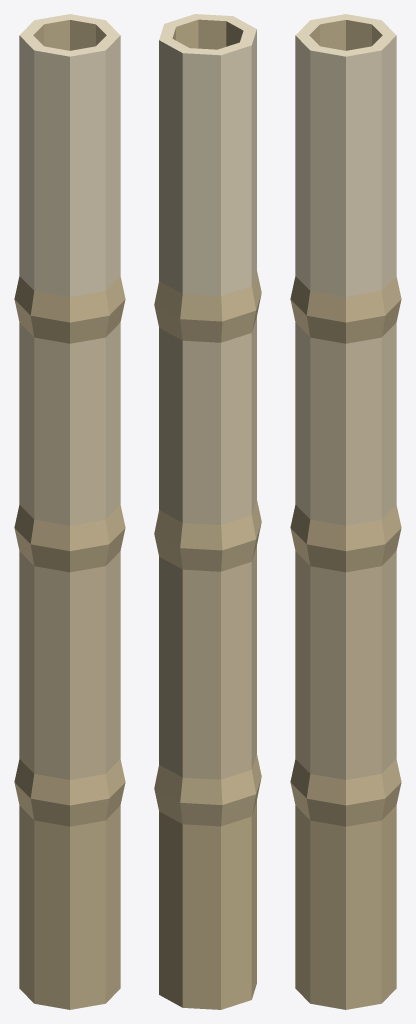
File: bamboo_brown.fbx
The picture shows the model from 3 angles, left to right: view 1: azimuth 90°, elevation 25°; view 2: azimuth 150°, elevation 25°; view 3: azimuth 270°, elevation 25°; orthographic projection.
Visible parts, largest first — view 1: bamboo_brown; view 2: bamboo_brown; view 3: bamboo_brown.
Boxes of the visible parts, x1,y1,x2,y2 form: bamboo_brown: (14,14,125,1009); bamboo_brown: (154,14,261,1009); bamboo_brown: (290,14,401,1009).
Size of the model in its own units: 24.2 by 229 by 24.2.
